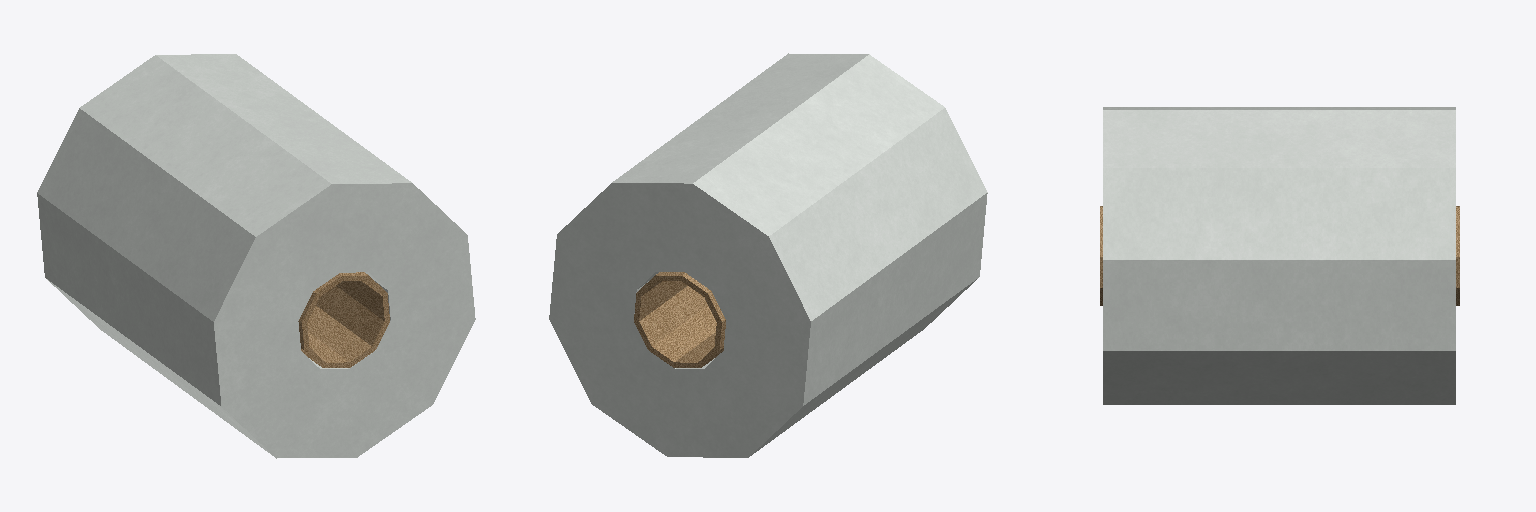
3 views of the same model, side by side, from view 1: azimuth 30°, elevation 25°; view 2: azimuth 150°, elevation 25°; view 3: azimuth 270°, elevation 25° (orthographic).
Parts seen in each view (by area): view 1: toilet_paper_01, toilet_paper_01_roll; view 2: toilet_paper_01, toilet_paper_01_roll; view 3: toilet_paper_01, toilet_paper_01_roll.
Part boxes in pixels (left/top/right/bottom): toilet_paper_01: left=37, top=54, right=475, bottom=458; toilet_paper_01_roll: left=298, top=272, right=389, bottom=367; toilet_paper_01: left=549, top=53, right=987, bottom=457; toilet_paper_01_roll: left=634, top=272, right=725, bottom=367; toilet_paper_01: left=1103, top=107, right=1455, bottom=404; toilet_paper_01_roll: left=1100, top=206, right=1459, bottom=305.
Size of the model in its own units: 0.1015 by 0.1036 by 0.1208.
2 materials, 2 textured.